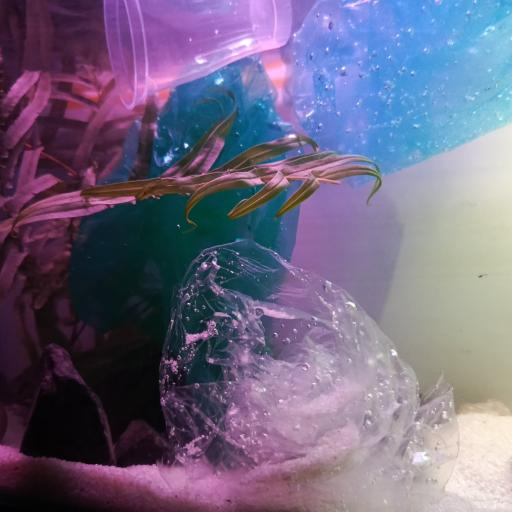plastic_bag: (156, 238, 463, 512), (66, 50, 298, 409), (285, 0, 512, 189)
plastic_cup: (103, 0, 291, 109)
plastic_straw: (65, 59, 289, 116)
